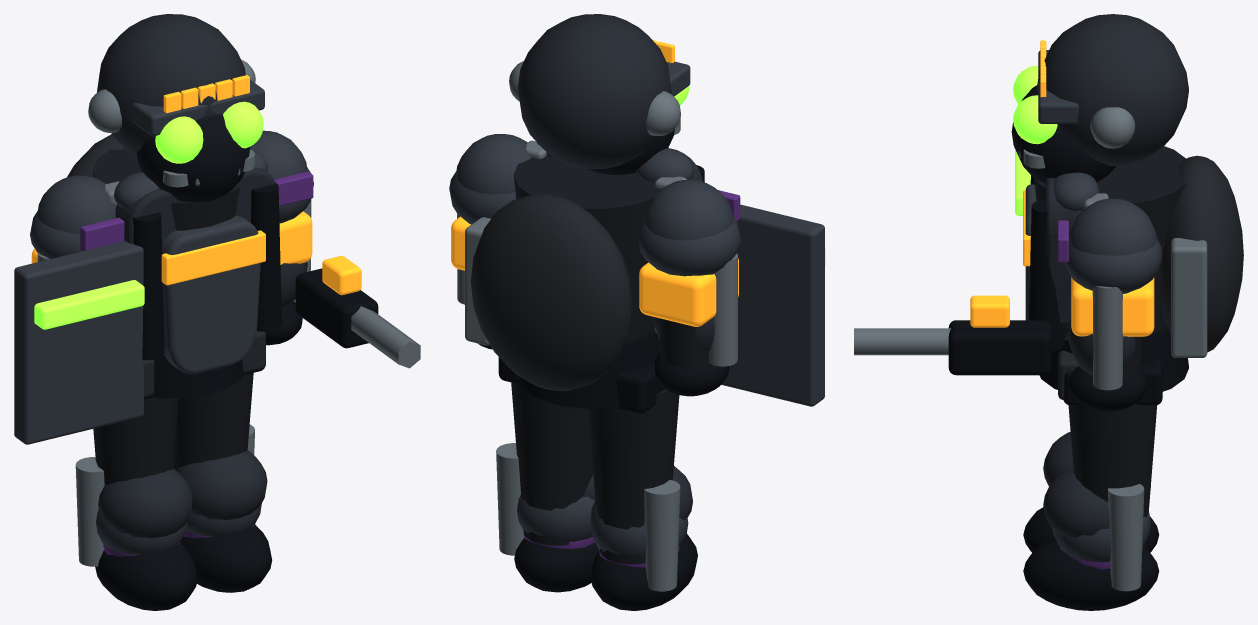
The model's file is assault_l05.glb.
3 views of the same model, side by side, from view 1: azimuth 30°, elevation 25°; view 2: azimuth 150°, elevation 25°; view 3: azimuth 270°, elevation 25° (orthographic). The views are drawn at different scales.
Parts seen in each view (by area): view 1: forearm_shield, rounded_helmet, front_plate, trouser (×2), shaped_knee_guard (×2), rounded_boot (×2), vest_tether (×2), shoulder_joint (×2), enclosed_mask, carbine_body, dzn_chest_flash, shield_light (+19 smaller); view 2: shaped_field_pack, rounded_helmet, trouser (×2), forearm_shield, body, shoulder_joint (×2), rounded_boot (×2), shin_frame (×2), shoulder_plate (×2), rank_stripe (×2), knee_plate (×2), waist_flex (+11 smaller); view 3: rounded_helmet, shaped_field_pack, trouser, rounded_boot (×2), carbine_body, body, spare_magazine, shaped_knee_guard (×2), shoulder_joint, shin_frame, shoulder_plate, forearm_seam (+19 smaller).
Part boxes in pixels (box(x1,y1,x2,y2)): forearm_shield: box(14, 241, 143, 444); rounded_helmet: box(97, 14, 245, 155); front_plate: box(162, 216, 260, 374); trouser (×2): box(93, 373, 253, 484); shaped_knee_guard (×2): box(98, 450, 267, 538); rounded_boot (×2): box(95, 524, 272, 610); vest_tether (×2): box(132, 182, 281, 360); shoulder_joint (×2): box(37, 130, 306, 233); enclosed_mask: box(136, 114, 250, 202); carbine_body: box(295, 268, 378, 348); dzn_chest_flash: box(161, 230, 265, 285); shield_light: box(34, 280, 144, 329); shaped_field_pack: box(470, 193, 632, 391); rounded_helmet: box(517, 14, 672, 169); trouser (×2): box(511, 382, 679, 564); forearm_shield: box(721, 204, 824, 406); body: box(513, 155, 661, 342); shoulder_joint (×2): box(456, 134, 733, 240); rounded_boot (×2): box(514, 533, 697, 610); shin_frame (×2): box(496, 443, 680, 591); shoulder_plate (×2): box(449, 171, 740, 276); rank_stripe (×2): box(451, 216, 738, 326); knee_plate (×2): box(517, 495, 688, 560); waist_flex: box(519, 329, 660, 408); rounded_helmet: box(1036, 14, 1188, 165); shaped_field_pack: box(1160, 155, 1243, 352); trouser: box(1068, 403, 1157, 552); rounded_boot (×2): box(1023, 507, 1159, 610); carbine_body: box(948, 320, 1051, 375); body: box(1034, 146, 1186, 331); spare_magazine: box(1171, 238, 1207, 357); shaped_knee_guard (×2): box(1043, 431, 1109, 537); shoulder_joint: box(1069, 198, 1156, 255); shin_frame: box(1108, 483, 1144, 591); shoulder_plate: box(1064, 238, 1162, 293); forearm_seam: box(1092, 286, 1122, 390).
Bounding box in the file's own units: 1.12 × 1.89 × 1.18.
